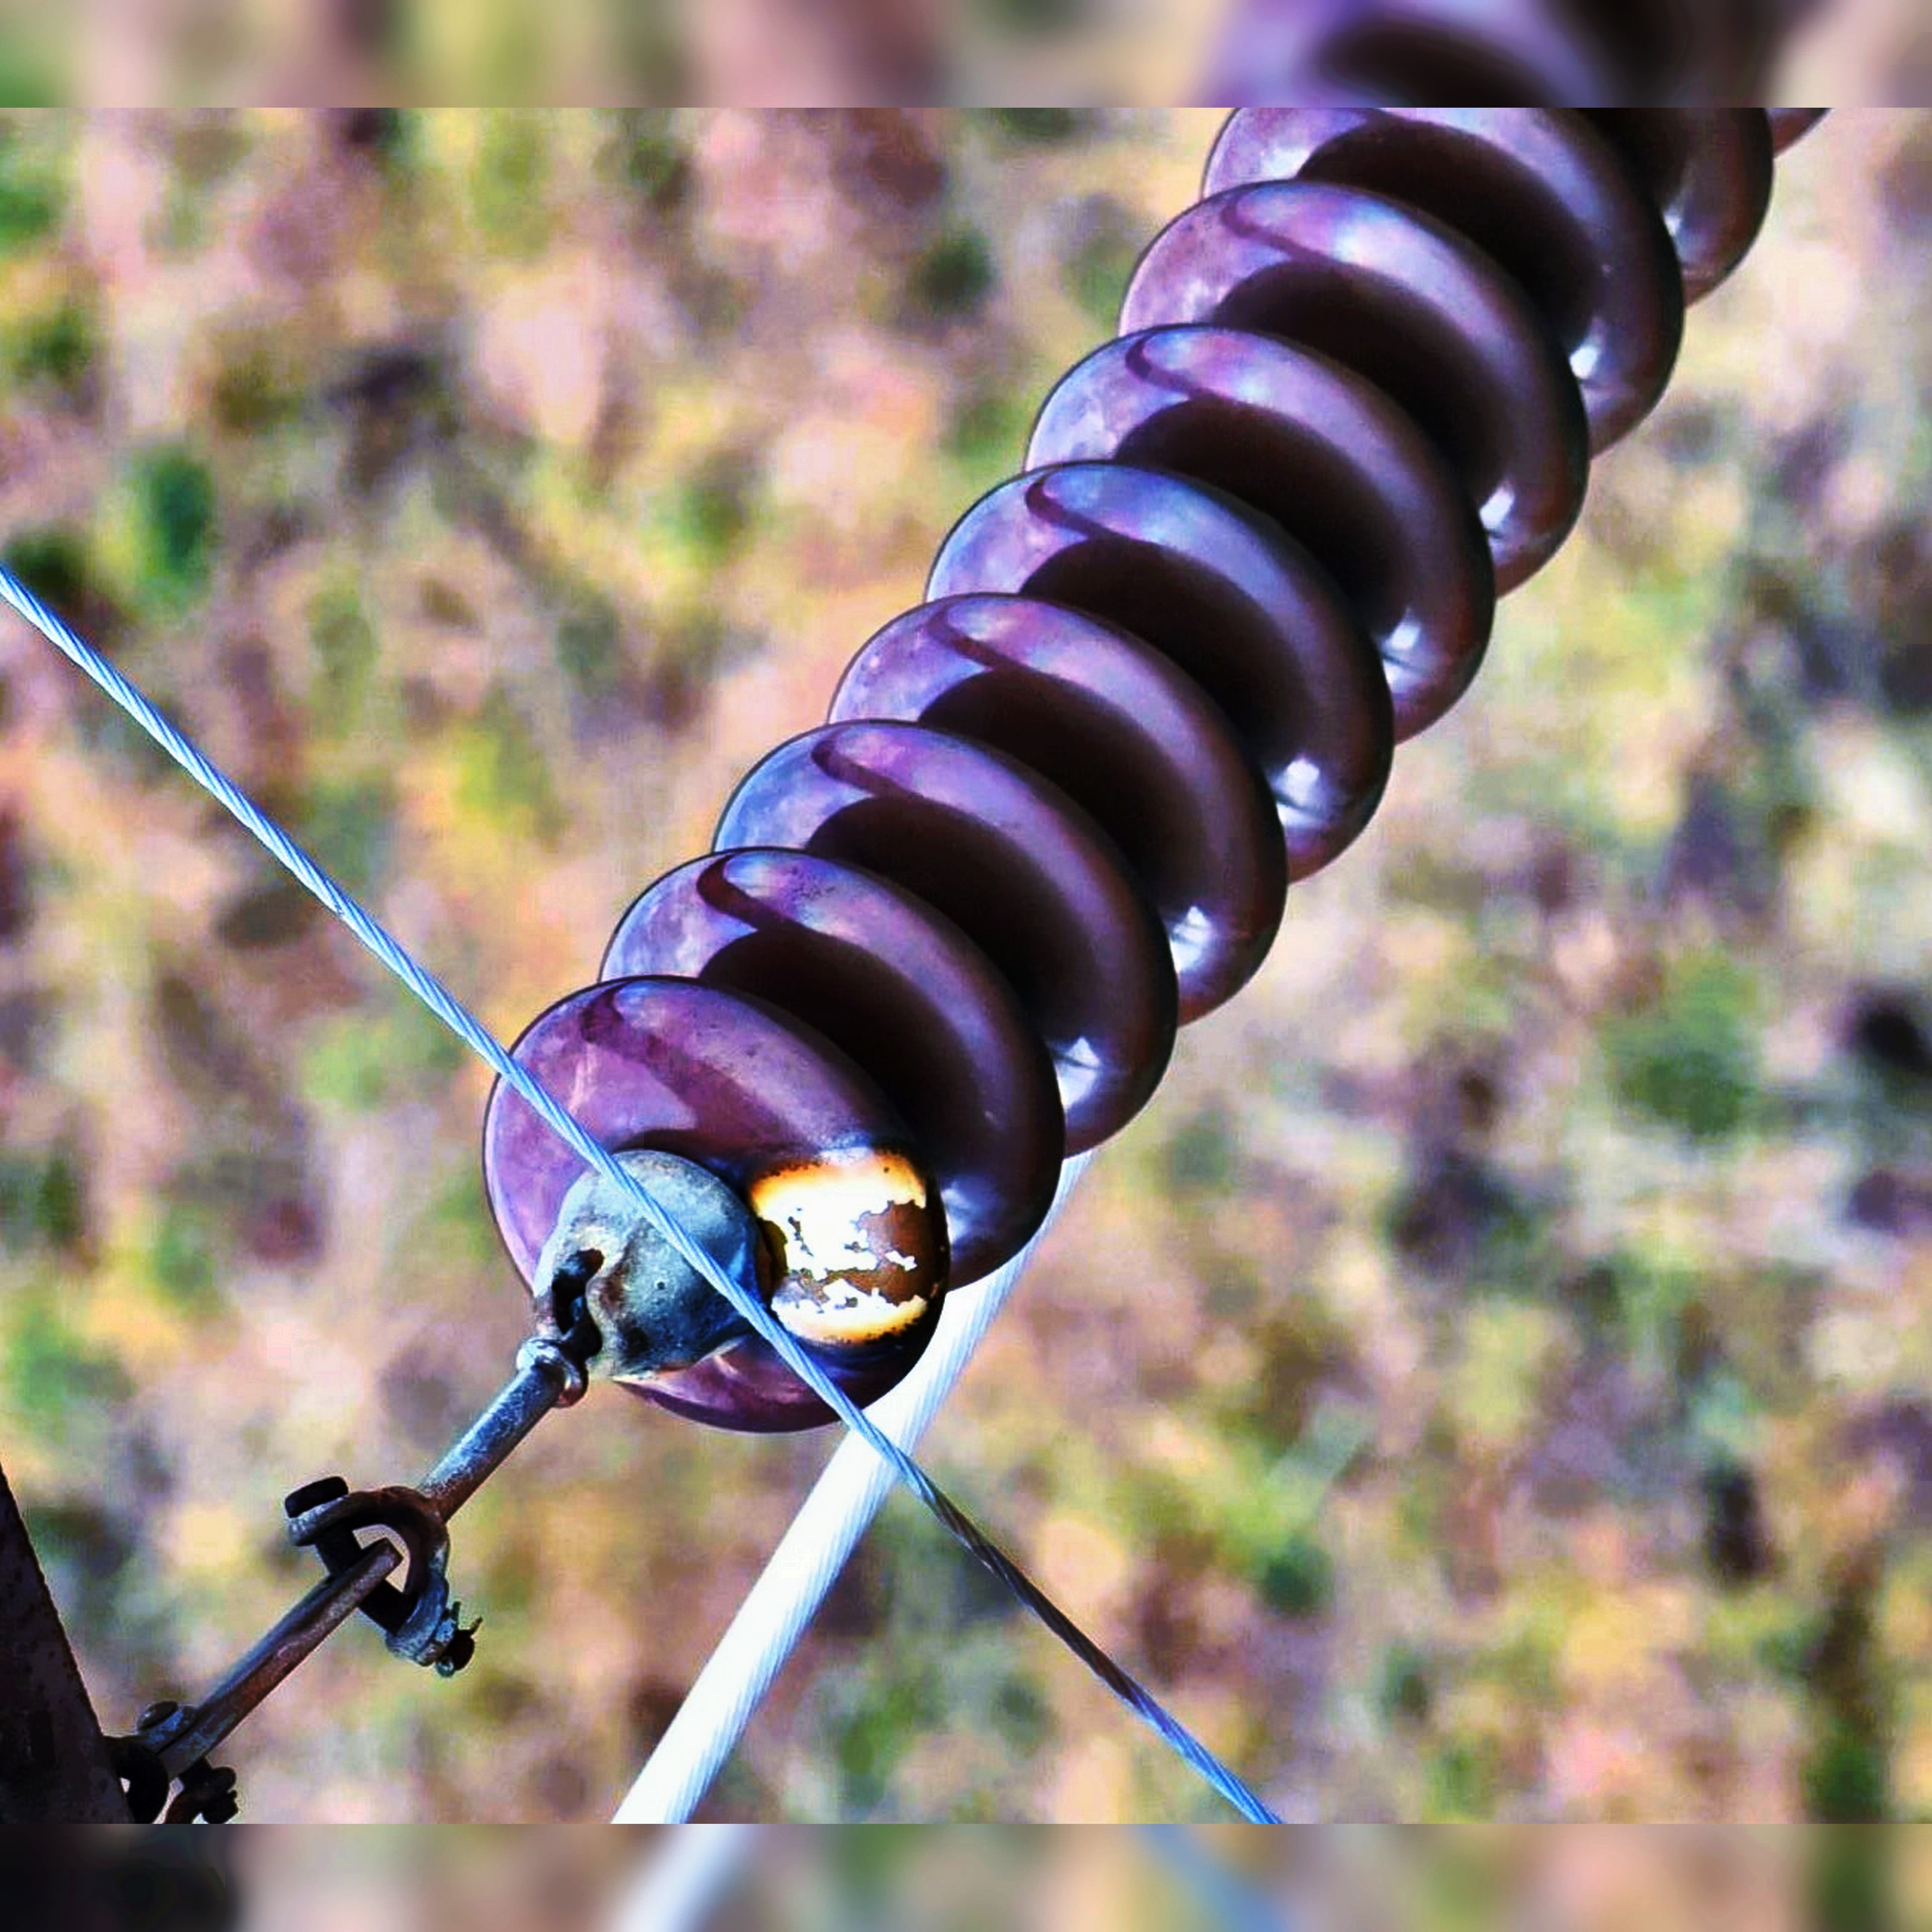Insulator flashover: (446, 954, 959, 1461)
